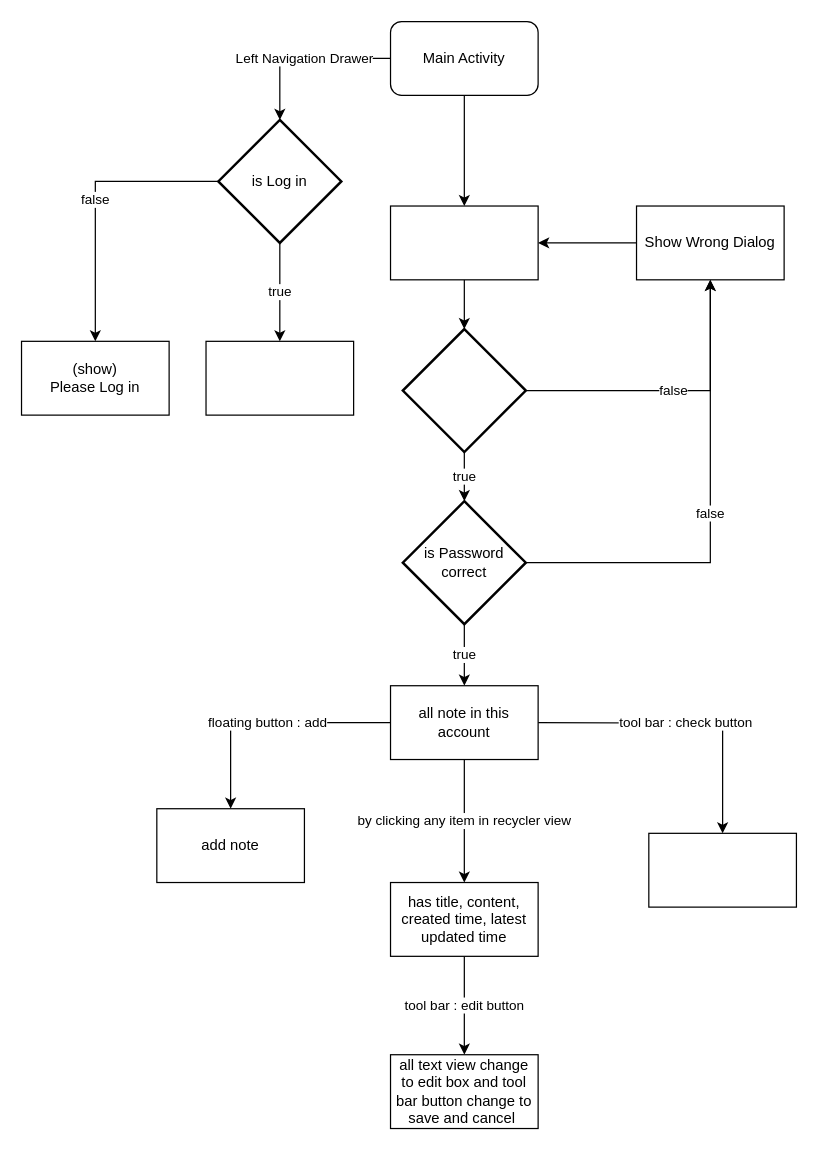
Some shapes in this 818 by 1150 pixel diagram are drawn without their labels. Each missing label, with the box of its shape:
(show) User Data: (205, 340, 354, 415)
choose which one to delete and floating button change to delete button: (648, 832, 796, 907)
does Account Name exist: (401, 327, 526, 453)
Log in view has: Account name, Password: (389, 205, 538, 280)
